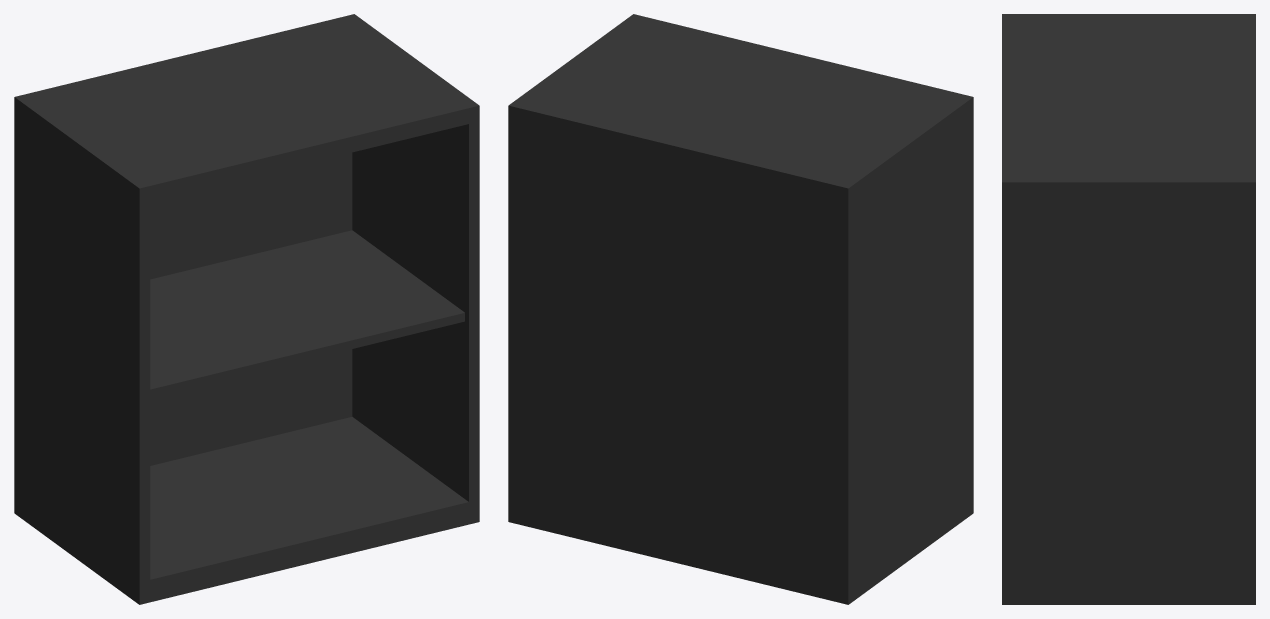
File: Expositor_1x1_B.obj
The picture shows the model from 3 angles, left to right: view 1: azimuth 30°, elevation 25°; view 2: azimuth 150°, elevation 25°; view 3: azimuth 270°, elevation 25°; orthographic projection.
Parts seen in each view (by area): view 1: Expositor_1x1_B; view 2: Expositor_1x1_B; view 3: Expositor_1x1_B.
Boxes of the visible parts, left/top/right/bottom form: Expositor_1x1_B: left=14, top=14, right=479, bottom=604; Expositor_1x1_B: left=508, top=14, right=973, bottom=604; Expositor_1x1_B: left=1002, top=14, right=1255, bottom=604.
Size of the model in its own units: 0.7113 by 0.8324 by 0.4532.
